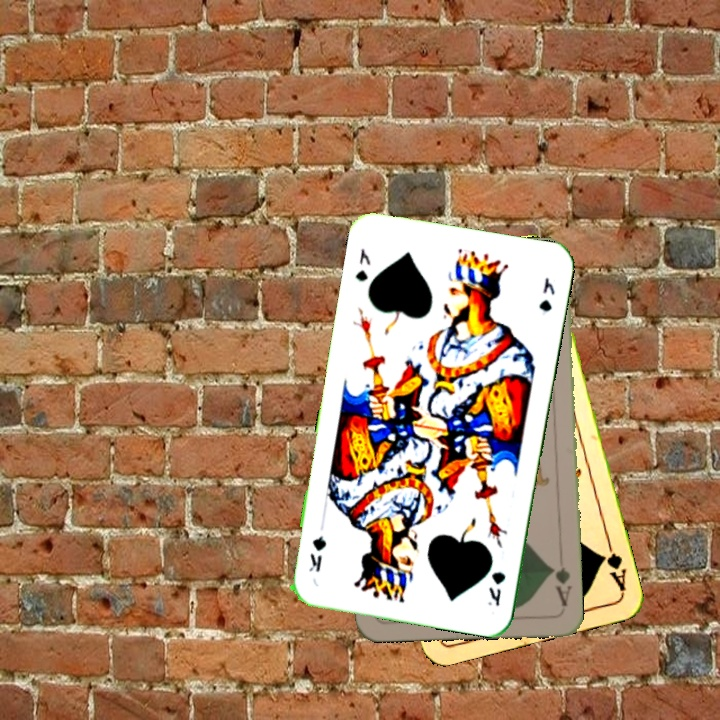GA: (596, 537, 629, 594), (546, 552, 574, 609)
GK: (484, 567, 508, 609), (351, 244, 373, 284)
